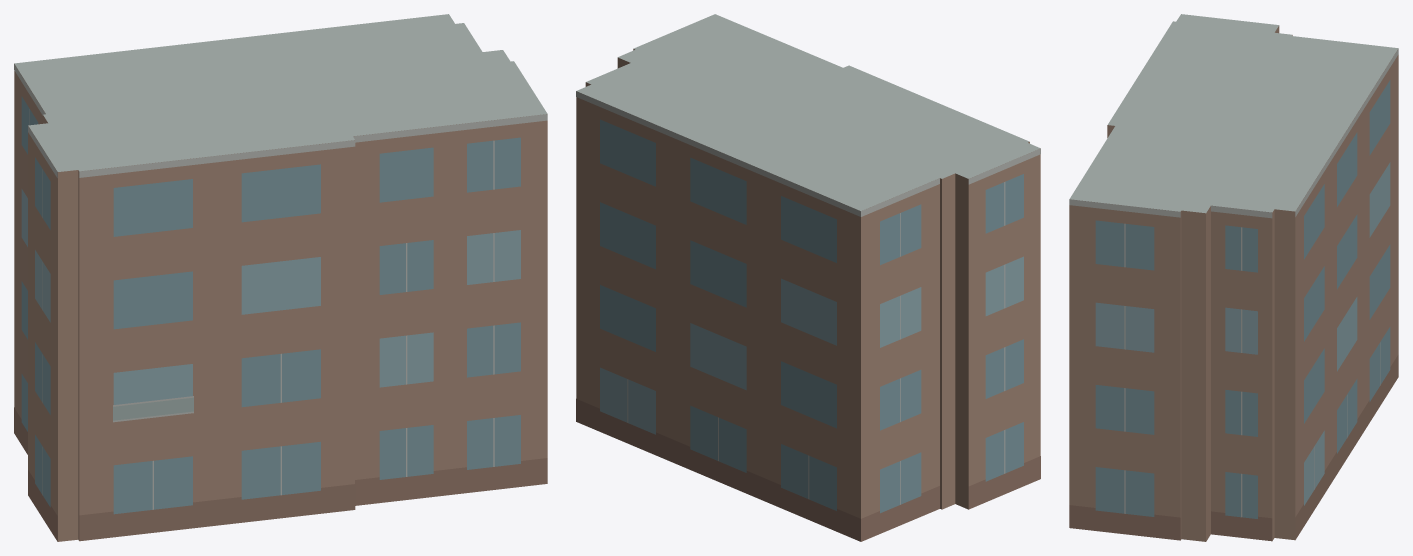
File: survey-upis-32620022.glb
3 renders of one model, left to right at view 1: azimuth 30°, elevation 25°; view 2: azimuth 150°, elevation 25°; view 3: azimuth 270°, elevation 25°, orthographic. The views are drawn at different scales.
Visible parts, largest first — view 1: survey-upis-32620022.tmp; view 2: survey-upis-32620022.tmp; view 3: survey-upis-32620022.tmp.
Part boxes in pixels (x1,y1,x2,y2): survey-upis-32620022.tmp: (14, 14, 547, 541); survey-upis-32620022.tmp: (576, 14, 1040, 541); survey-upis-32620022.tmp: (1069, 14, 1398, 541).
Bounding box in the file's own units: 17.81 × 13.7 × 12.45.
